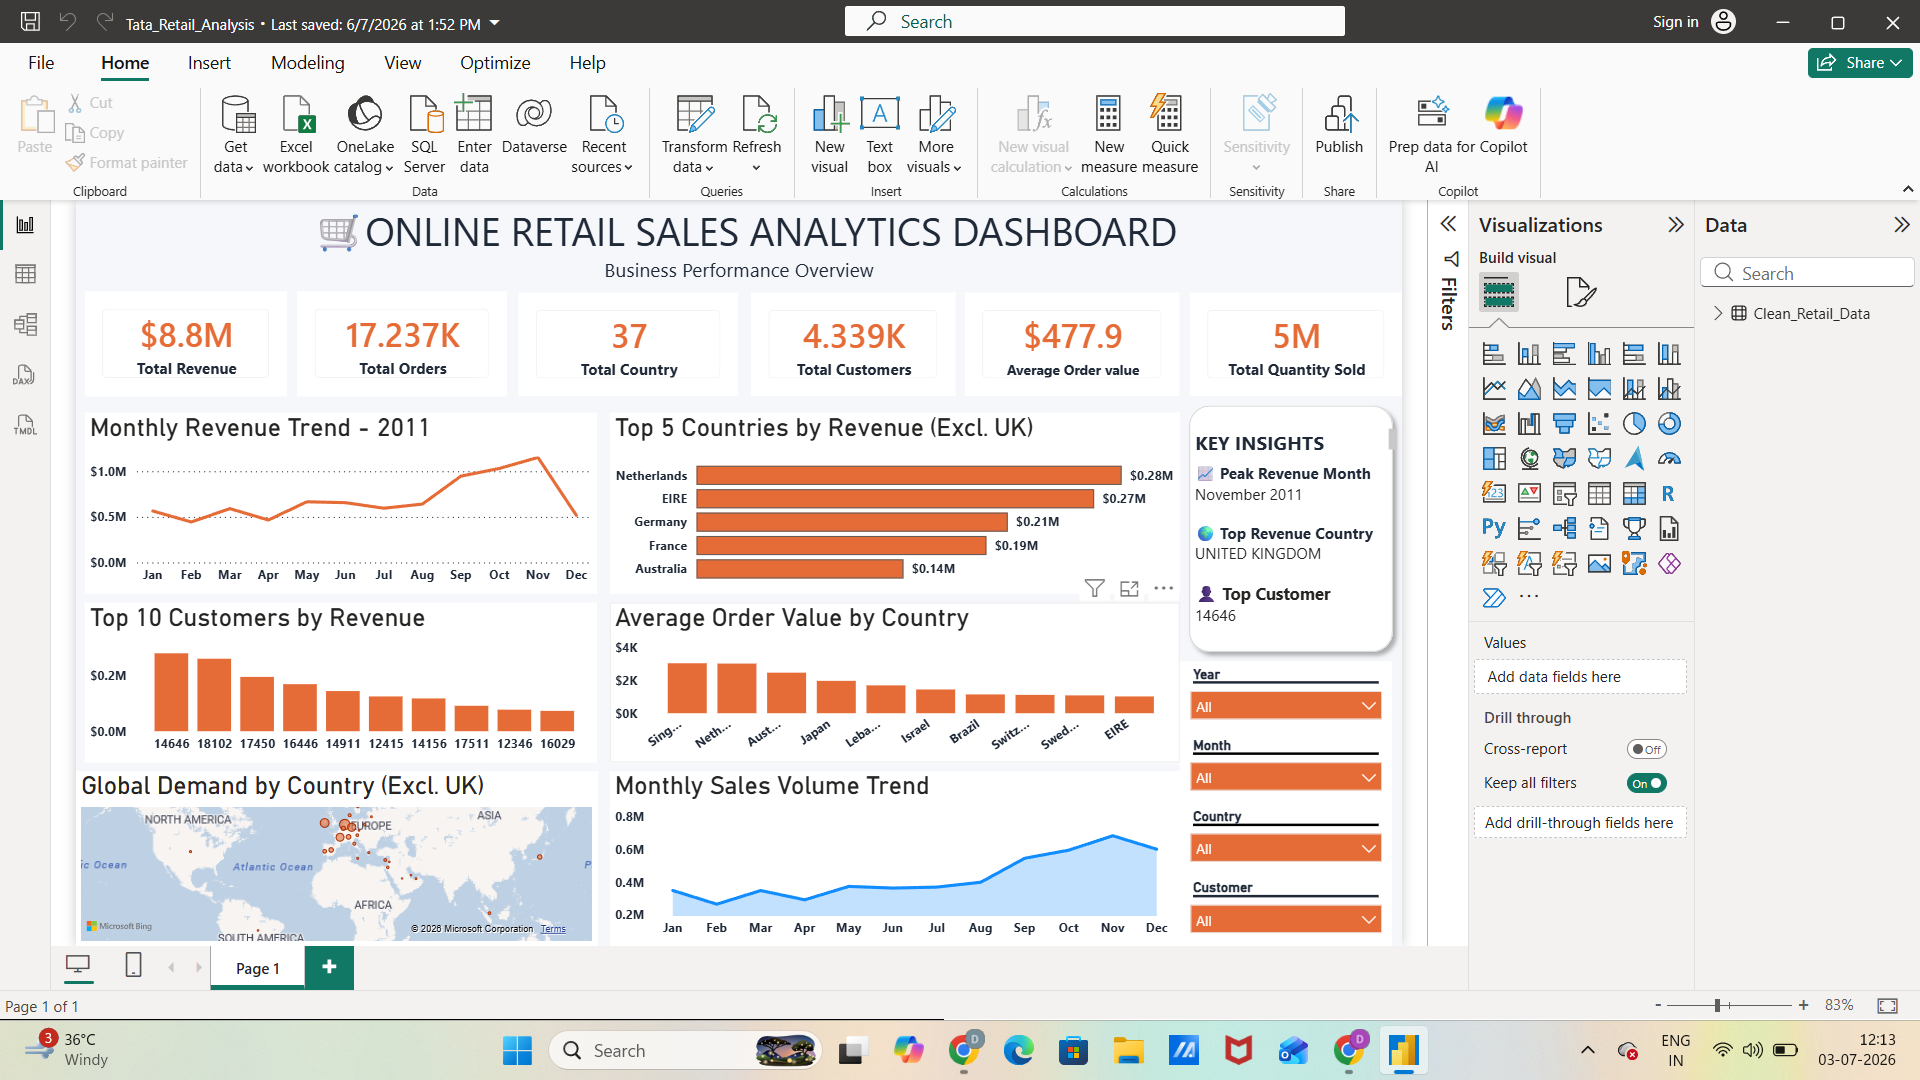

What the dashboard file says about the page in this screenshot:
{"tool":"powerbi","page":{"name":"Page 1","canvas":[1280,720],"ordinal":0},"visuals":[{"type":"lineChart","title":"Monthly Revenue Trend - 2011","fields":{"Y":["Sum(Clean_Retail_Data.Revenue)"],"Category":["Clean_Retail_Data.MonthName"]},"box":[8.4,205.1,494.6,174.9],"z":0},{"type":"textbox","box":[0,0,1280,84.5],"z":1000},{"type":"cardVisual","fields":{"Data":["Sum(Clean_Retail_Data.Revenue)"]},"box":[8.4,88.1,195.4,101.3],"z":2000},{"type":"cardVisual","fields":{"Data":["Count(Clean_Retail_Data.Country)"]},"box":[427.1,89.3,212.3,100.1],"z":3000},{"type":"cardVisual","fields":{"Data":["Count(Clean_Retail_Data.CustomerID)"]},"box":[651.5,89.3,197.9,100.1],"z":4000},{"type":"cardVisual","fields":{"Data":["Clean_Retail_Data.Average Order value"]},"box":[857.8,89.3,207.5,100.1],"z":5000},{"type":"cardVisual","fields":{"Data":["Clean_Retail_Data.Total Quantity Sold"]},"box":[1074.9,89.3,205.1,100.1],"z":6000},{"type":"cardVisual","fields":{"Data":["Count(Clean_Retail_Data.InvoiceDate)"]},"box":[213.5,88.1,202.7,101.3],"z":7000},{"type":"clusteredBarChart","title":"Top 5 Countries by Revenue (Excl. UK)","fields":{"Category":["Clean_Retail_Data.Country"],"Y":["Sum(Clean_Retail_Data.Revenue)"]},"box":[515.2,205.1,550.1,174.9],"z":8000},{"type":"columnChart","title":"Top 10 Customers by Revenue","fields":{"Category":["Clean_Retail_Data.CustomerID"],"Y":["Sum(Clean_Retail_Data.Revenue)"]},"box":[8.4,388.5,494.6,154.4],"z":9000},{"type":"map","title":"Global Demand by Country (Excl. UK)","fields":{"Category":["Clean_Retail_Data.Country"],"Size":["Sum(Clean_Retail_Data.Quantity)"]},"box":[0,551.3,503.1,168.9],"z":10000},{"type":"columnChart","title":"Average Order Value by Country","fields":{"Y":["Clean_Retail_Data.Average Order value"],"Category":["Clean_Retail_Data.Country"]},"box":[514.6,388.3,550.3,155.1],"z":11000},{"type":"stackedAreaChart","title":"Monthly Sales Volume Trend","fields":{"Category":["Clean_Retail_Data.MonthName"],"Y":["Sum(Clean_Retail_Data.Quantity)"]},"box":[515.2,551.3,550.1,168.9],"z":12000},{"type":"slicer","fields":{"Values":["Clean_Retail_Data.Year"]},"box":[1065.3,445.2,205.1,68.8],"z":13000},{"type":"slicer","fields":{"Values":["Clean_Retail_Data.Month"]},"box":[1065.3,513.9,205.1,68.8],"z":14000},{"type":"slicer","fields":{"Values":["Clean_Retail_Data.Country"]},"box":[1065.3,582.7,205.1,68.8],"z":15000},{"type":"slicer","fields":{"Values":["Clean_Retail_Data.CustomerID"]},"box":[1065.3,651.5,205.1,68.8],"z":16000},{"type":"shape","box":[1065.3,189.4,214.7,255.8],"z":17000},{"type":"textbox","box":[1074.9,216,205.1,32.6],"z":18000},{"type":"textbox","box":[1074.9,248.5,195.4,178.6],"z":19000}]}

Visuals, with their boxes on the page's 1280x720 design canvas (x1, y1, x2, y2). These are canvas units, not pixel positions in the 1920x1080 screenshot, which may show the page scaled, cropped or inside an application window:
"Monthly Revenue Trend - 2011" lineChart: 8 205 503 380
textbox: 0 0 1280 84
cardVisual - Sum(Clean_Retail_Data.Revenue): 8 88 204 189
cardVisual - Count(Clean_Retail_Data.Country): 427 89 639 189
cardVisual - Count(Clean_Retail_Data.CustomerID): 652 89 849 189
cardVisual - Clean_Retail_Data.Average Order value: 858 89 1065 189
cardVisual - Clean_Retail_Data.Total Quantity Sold: 1075 89 1280 189
cardVisual - Count(Clean_Retail_Data.InvoiceDate): 214 88 416 189
"Top 5 Countries by Revenue (Excl. UK)" clusteredBarChart: 515 205 1065 380
"Top 10 Customers by Revenue" columnChart: 8 388 503 543
"Global Demand by Country (Excl. UK)" map: 0 551 503 720
"Average Order Value by Country" columnChart: 515 388 1065 543
"Monthly Sales Volume Trend" stackedAreaChart: 515 551 1065 720
slicer - Clean_Retail_Data.Year: 1065 445 1270 514
slicer - Clean_Retail_Data.Month: 1065 514 1270 583
slicer - Clean_Retail_Data.Country: 1065 583 1270 652
slicer - Clean_Retail_Data.CustomerID: 1065 652 1270 720
shape: 1065 189 1280 445
textbox: 1075 216 1280 249
textbox: 1075 248 1270 427
